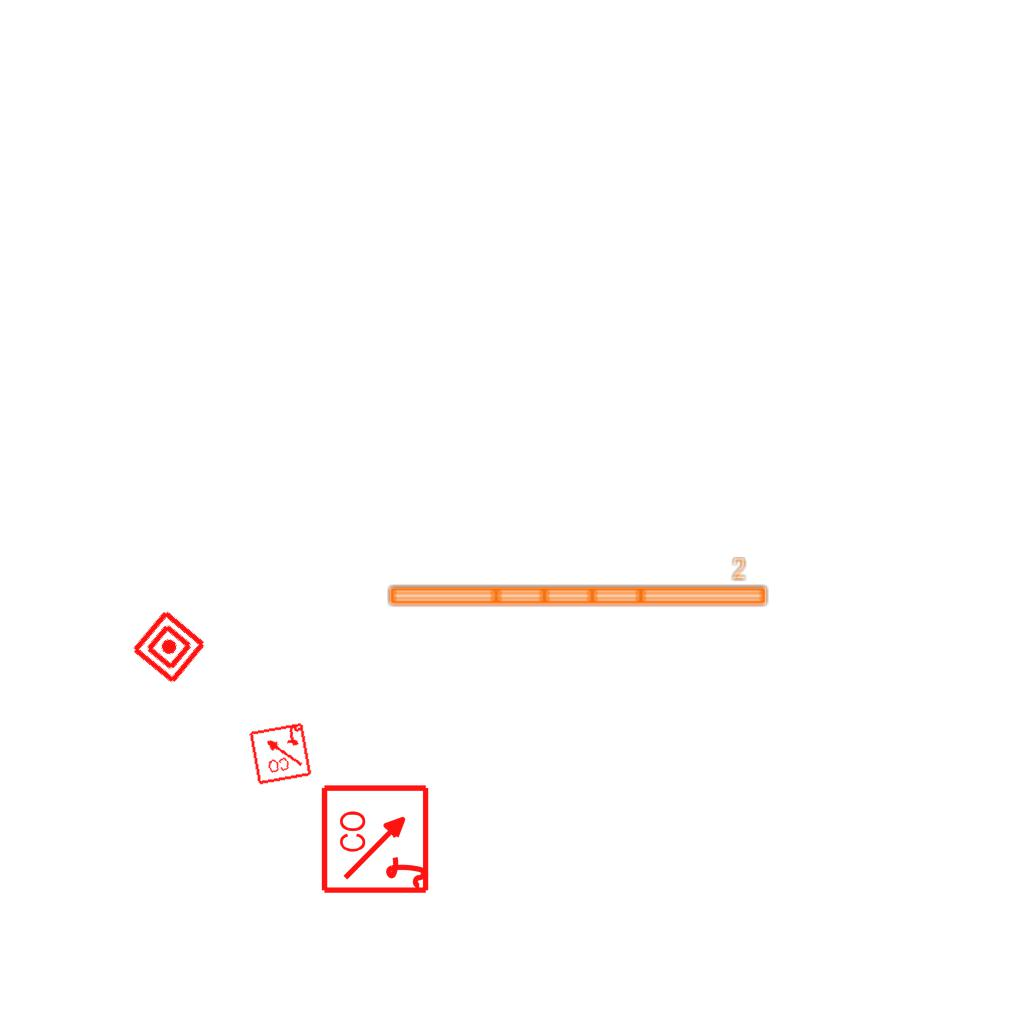Ambulanz_Pendelleuchte_LED: (384, 555, 771, 611)
NAM-Nichtautomatischer_Melder: (129, 607, 209, 687)
ROA_Rauchmelder_optisch_mit_Signalgeber_(Sockelsirene): (320, 782, 433, 895), (247, 720, 313, 786)
